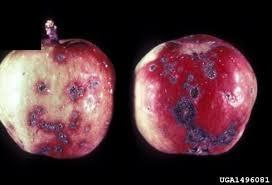rotten apple: (133, 33, 259, 156), (1, 36, 114, 162)
